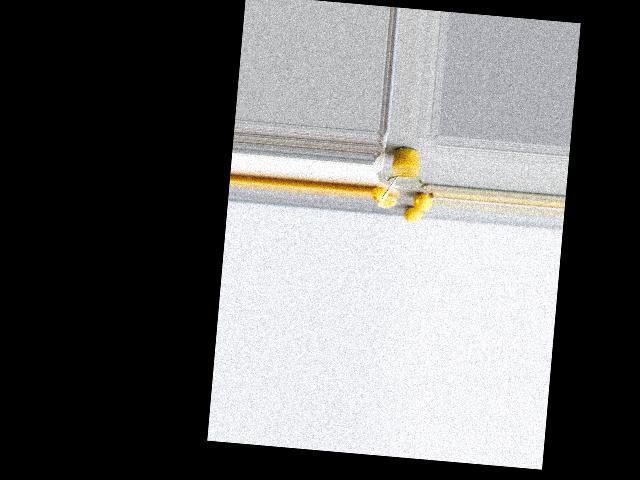lemon: (403, 208, 426, 225)
